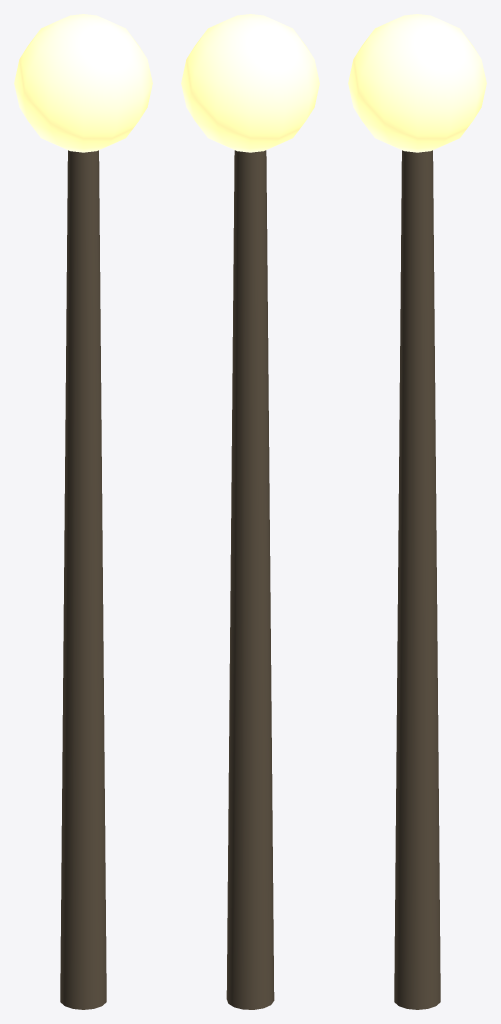
The model's file is ember_wand_static.glb.
3 renders of one model, left to right at view 1: azimuth 90°, elevation 25°; view 2: azimuth 150°, elevation 25°; view 3: azimuth 270°, elevation 25°, orthographic.
Visible parts, largest first — view 1: ember_wand; view 2: ember_wand; view 3: ember_wand.
Boxes of the visible parts, left/top/right/bottom form: ember_wand: left=14, top=14, right=152, bottom=1009; ember_wand: left=181, top=14, right=319, bottom=1009; ember_wand: left=348, top=14, right=486, bottom=1009.
Size of the model in its own units: 0.07 by 0.545 by 0.07.
